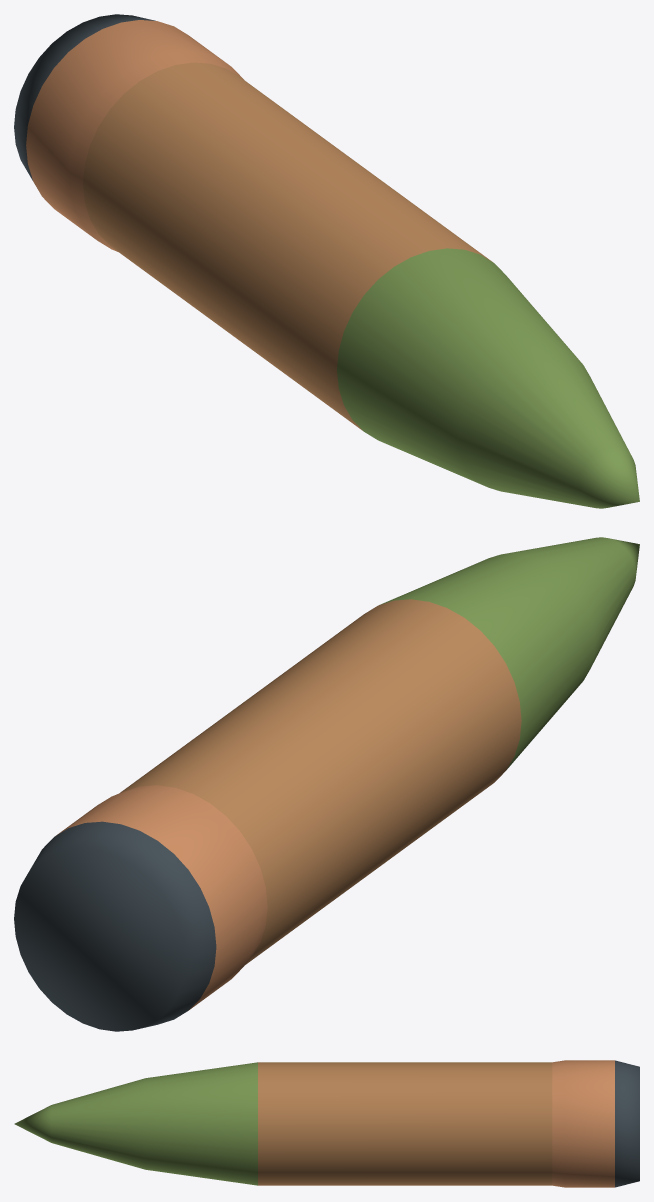
File: heavy_240_projectile_display.glb
3 views of the same model, one above another, from view 1: azimuth 30°, elevation 25°; view 2: azimuth 150°, elevation 25°; view 3: azimuth 270°, elevation 25° (orthographic). The views are drawn at different scales.
Parts seen in each view (by area): view 1: AMMO_MESH.051; view 2: AMMO_MESH.051; view 3: AMMO_MESH.051.
Part boxes in pixels (<box>): AMMO_MESH.051: <box>14,14,639,508</box>; AMMO_MESH.051: <box>14,537,639,1031</box>; AMMO_MESH.051: <box>14,1060,639,1187</box>.
Bounding box in the file's own units: 0.24 × 0.24 × 1.18.
